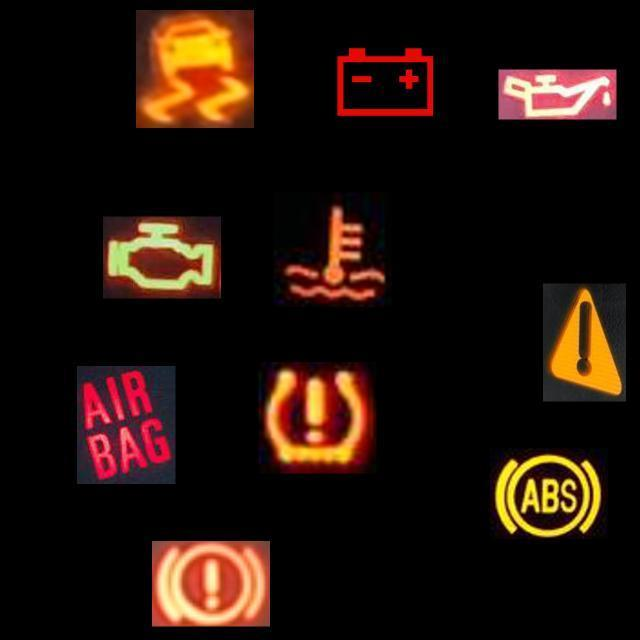Central Warning lamp: (543, 284, 626, 402)
Engine cooling system: (274, 192, 392, 308)
